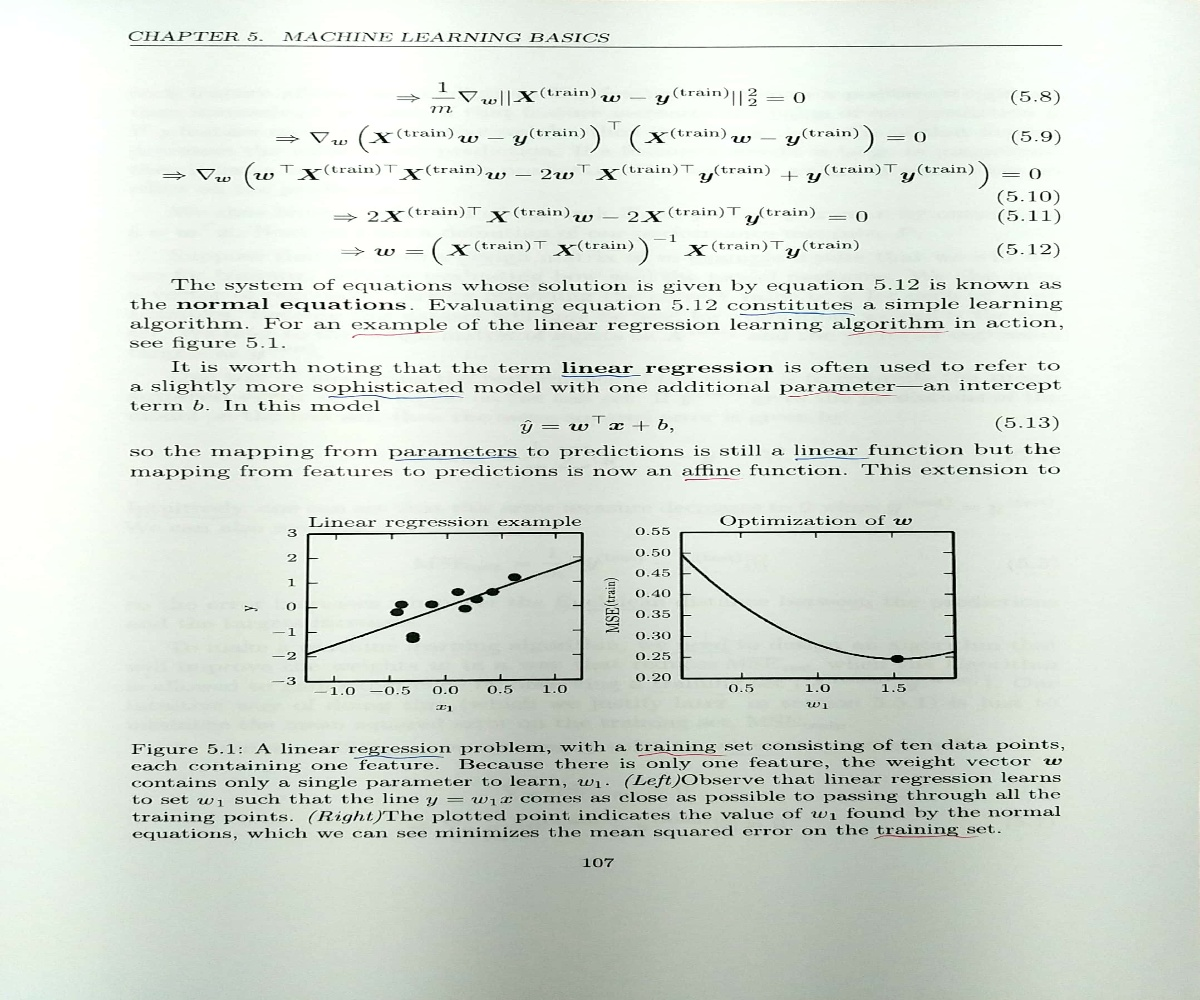underline: (326, 392, 466, 403), (873, 833, 982, 842), (785, 391, 898, 399), (636, 749, 726, 759), (392, 455, 519, 462), (735, 309, 859, 316), (846, 330, 946, 338), (793, 454, 871, 463), (350, 330, 444, 337), (355, 753, 446, 760), (560, 372, 641, 379), (684, 475, 741, 484)
